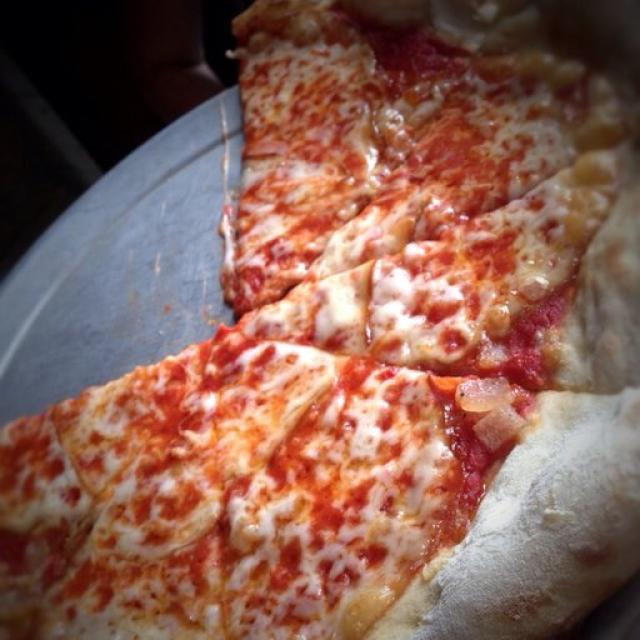Pepperoni: (0, 0, 640, 640)
